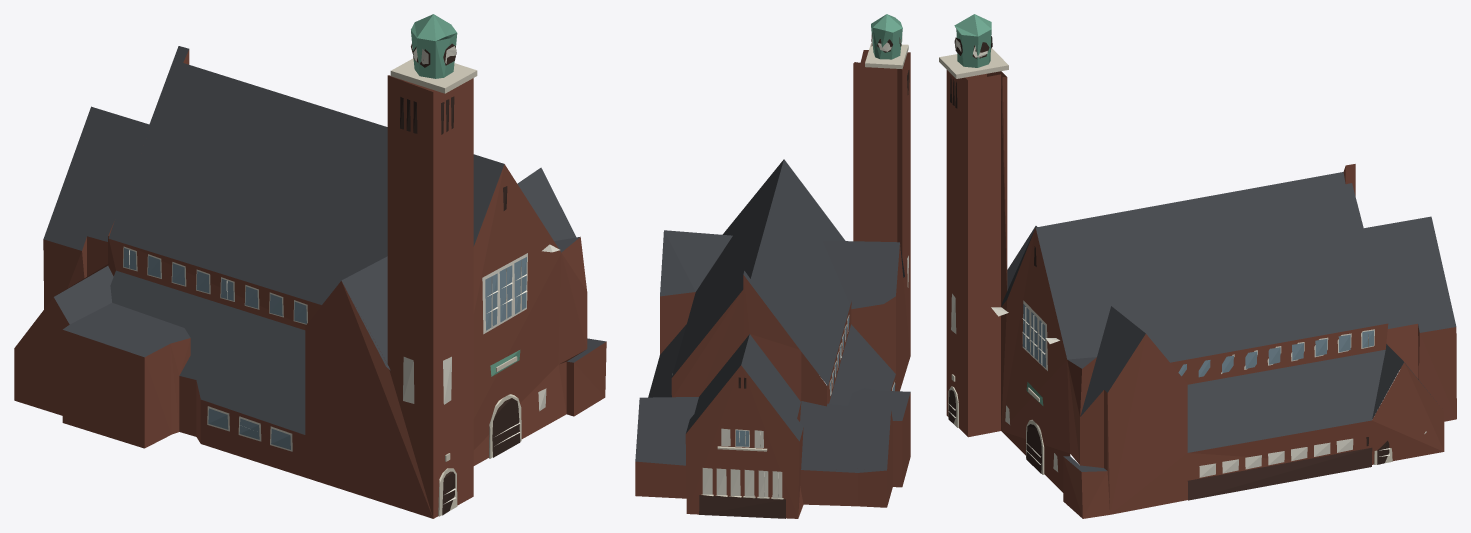
The model's file is willem-de-zwijgerkerk.lod1.glb.
3 views of the same model, side by side, from view 1: azimuth 30°, elevation 25°; view 2: azimuth 150°, elevation 25°; view 3: azimuth 270°, elevation 25° (orthographic). The views are drawn at different scales.
Visible parts, largest first — view 1: willem-de-zwijgerkerk; view 2: willem-de-zwijgerkerk; view 3: willem-de-zwijgerkerk.
Boxes of the visible parts, box(x1,y1,x2,y2) form: willem-de-zwijgerkerk: box(14, 14, 606, 518); willem-de-zwijgerkerk: box(635, 14, 910, 518); willem-de-zwijgerkerk: box(939, 14, 1456, 518).
Bounding box in the file's own units: 33.98 × 35.5 × 40.79.
